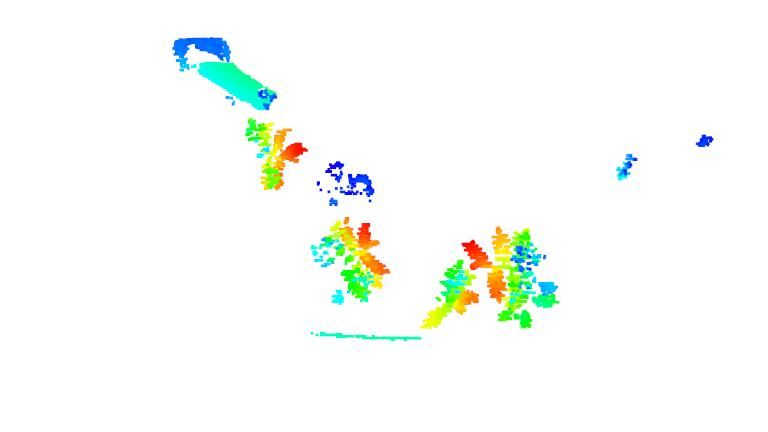chickpea: (463, 228, 558, 328), (311, 218, 390, 306), (245, 118, 307, 192), (420, 262, 478, 329)
